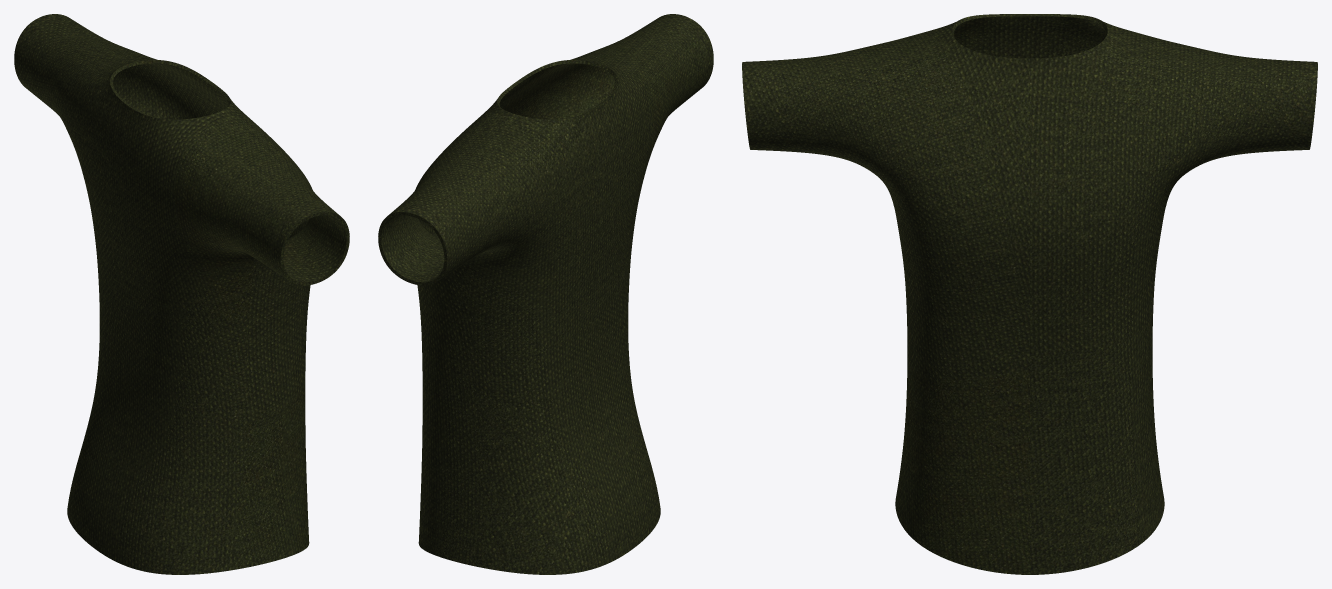
File: tshirt.fbx
3 renders of one model, left to right at view 1: azimuth 30°, elevation 25°; view 2: azimuth 150°, elevation 25°; view 3: azimuth 270°, elevation 25°, orthographic. The views are drawn at different scales.
Parts seen in each view (by area): view 1: T-SHIRT; view 2: T-SHIRT; view 3: T-SHIRT.
Boxes of the visible parts, x1=… form: T-SHIRT: x1=14, y1=14, x2=349, y2=574; T-SHIRT: x1=378, y1=14, x2=713, y2=574; T-SHIRT: x1=742, y1=14, x2=1317, y2=574.
Size of the model in its own units: 22.02 by 51.19 by 54.9.
Materials: 1 (1 with a texture image).
